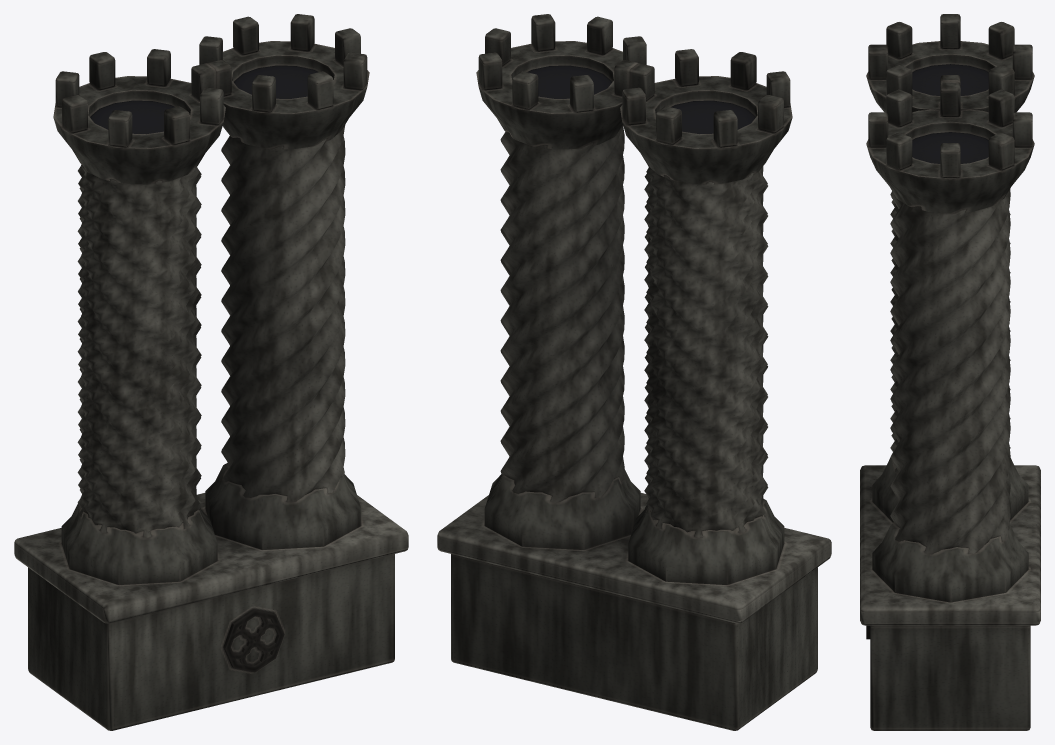
Rendered from TwinFlue.fbx.
The picture shows the model from 3 angles, left to right: view 1: azimuth 30°, elevation 25°; view 2: azimuth 150°, elevation 25°; view 3: azimuth 270°, elevation 25°; orthographic projection. The views are drawn at different scales.
Visible parts, largest first — view 1: TwinFlue; view 2: TwinFlue; view 3: TwinFlue.
Boxes of the visible parts, bbox=[...] form: TwinFlue: bbox=[14, 14, 408, 730]; TwinFlue: bbox=[437, 14, 831, 730]; TwinFlue: bbox=[860, 14, 1040, 730].
Bounding box in the file's own units: 340 × 641 × 180.
